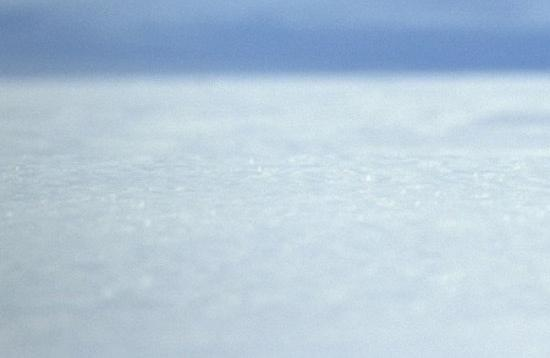Emperor Penguin: (540, 0, 550, 210)
